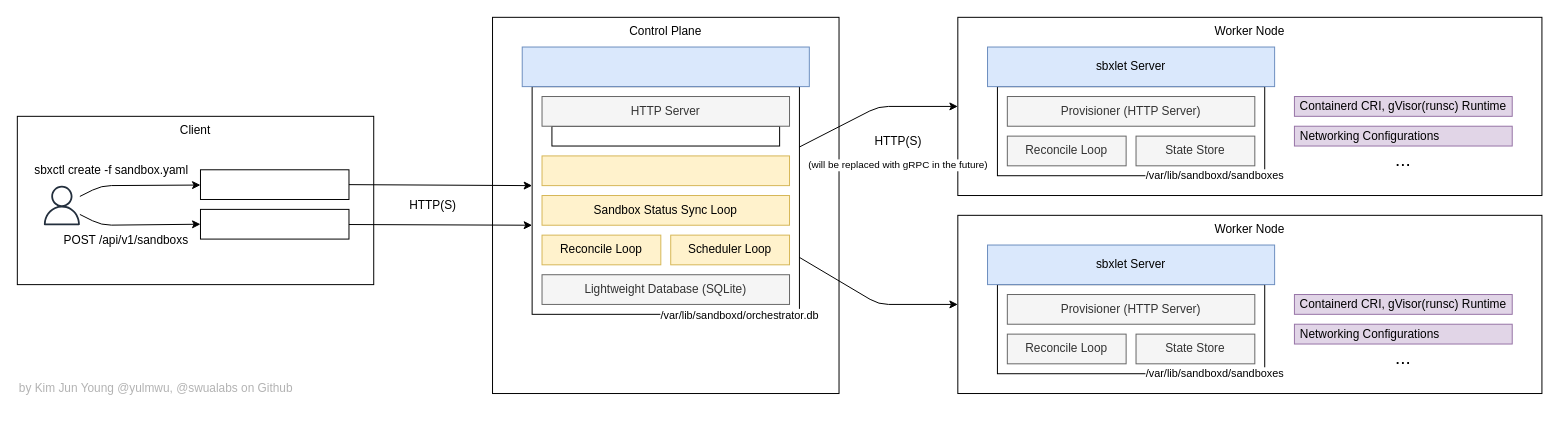
Image size: 1559x421. Some labels were removed from this diagram. Here are the shapes that lost their labels. From the top down, the centre of each, then its label:
[665,66]: sbxorch API Server
[665,135]: worker node proxy endpoints
[274,184]: sbxctl CLI
[665,170]: Worker Node Resource Sync Loop
[274,223]: HTTP Calls
